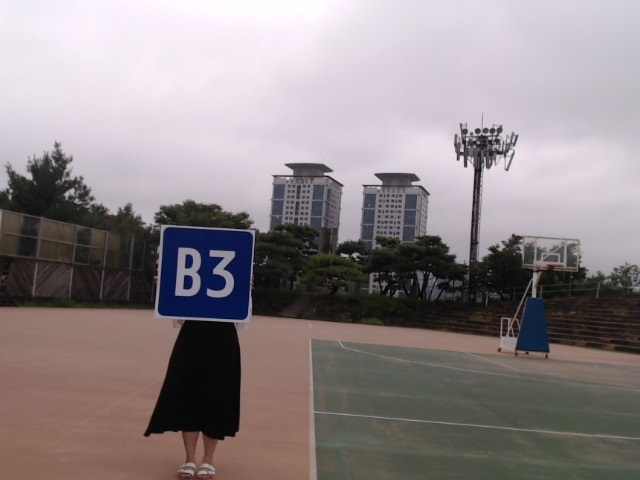delivery_b3: (157, 226, 253, 321)
